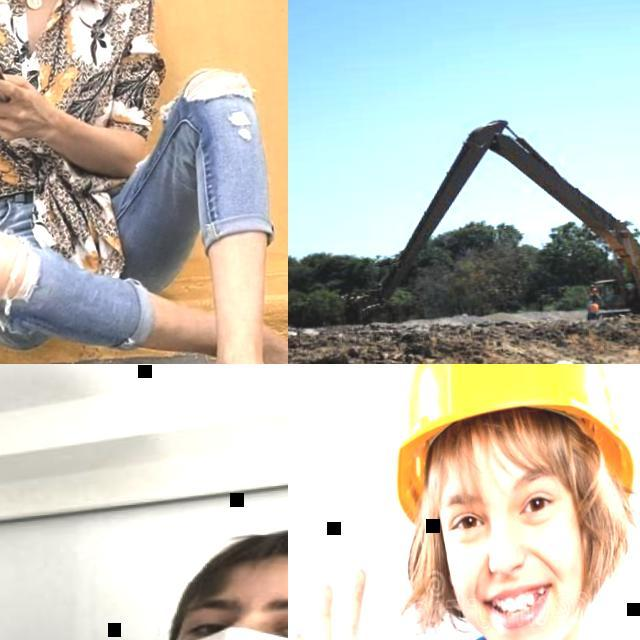helmet: (377, 364, 638, 516), (547, 358, 579, 364), (588, 299, 594, 302), (590, 283, 595, 286)
vest: (589, 302, 599, 312), (588, 286, 598, 294)
